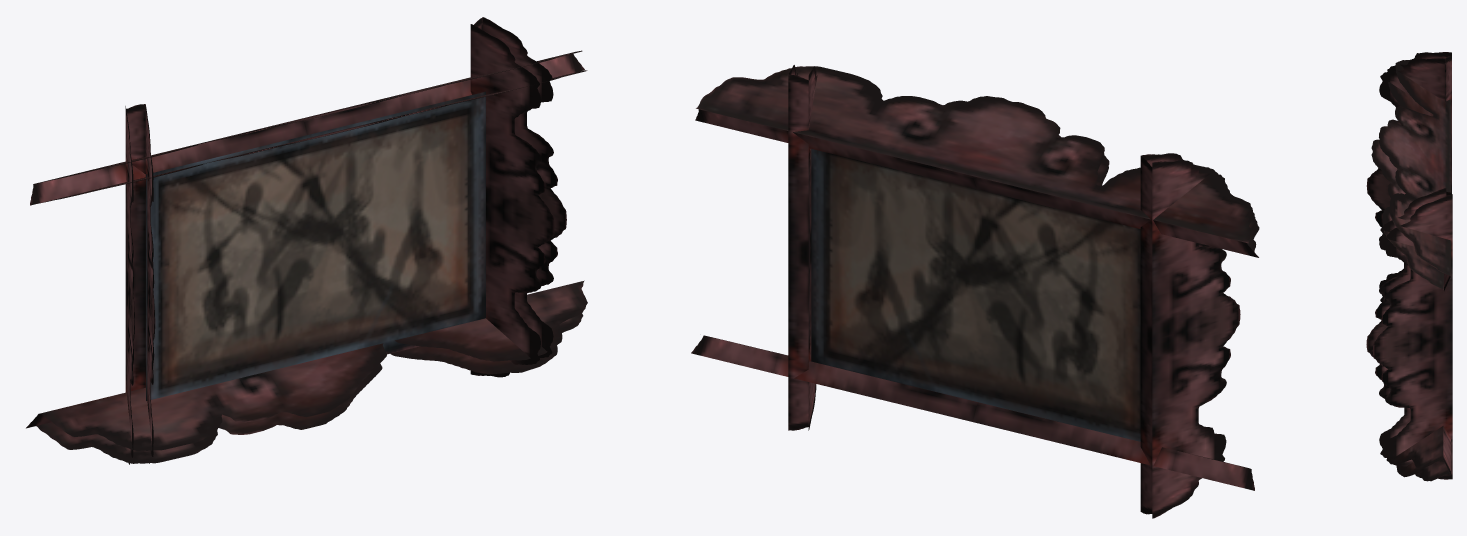
Rendered from PRP_BoardA.FBX.
The picture shows the model from 3 angles, left to right: view 1: azimuth 30°, elevation 25°; view 2: azimuth 150°, elevation 25°; view 3: azimuth 270°, elevation 25°; orthographic projection. The views are drawn at different scales.
Parts seen in each view (by area): view 1: PRP_BoardA; view 2: PRP_BoardA; view 3: PRP_BoardA.
Boxes of the visible parts, x1,y1,x2,y2 form: PRP_BoardA: [26, 17, 587, 464]; PRP_BoardA: [691, 65, 1259, 518]; PRP_BoardA: [1366, 52, 1452, 481].
Bounding box in the file's own units: 260 × 153 × 47.05.
1 material, 1 textured.
